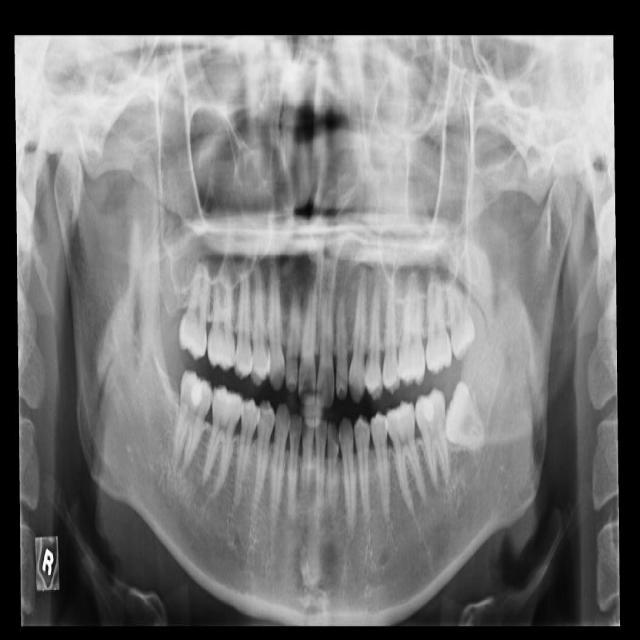52: (413, 387, 450, 440), (180, 369, 214, 422)
73: (597, 582, 614, 598)
BioHorizons Implant: (423, 268, 453, 377)
BioLife Implant: (444, 267, 477, 363)
Biomet 3i Implant: (428, 376, 491, 460)
Blue Sky Bio Implant: (413, 387, 452, 491)
Caries: (177, 250, 212, 362)
Implant: (169, 369, 217, 477)
